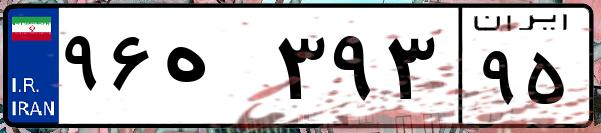3: (270, 28, 330, 110), (385, 28, 445, 110)
5: (525, 38, 570, 115)
6: (110, 28, 158, 98)
9: (330, 28, 385, 110), (57, 26, 110, 100), (475, 38, 525, 113)
ه: (158, 20, 270, 120)
